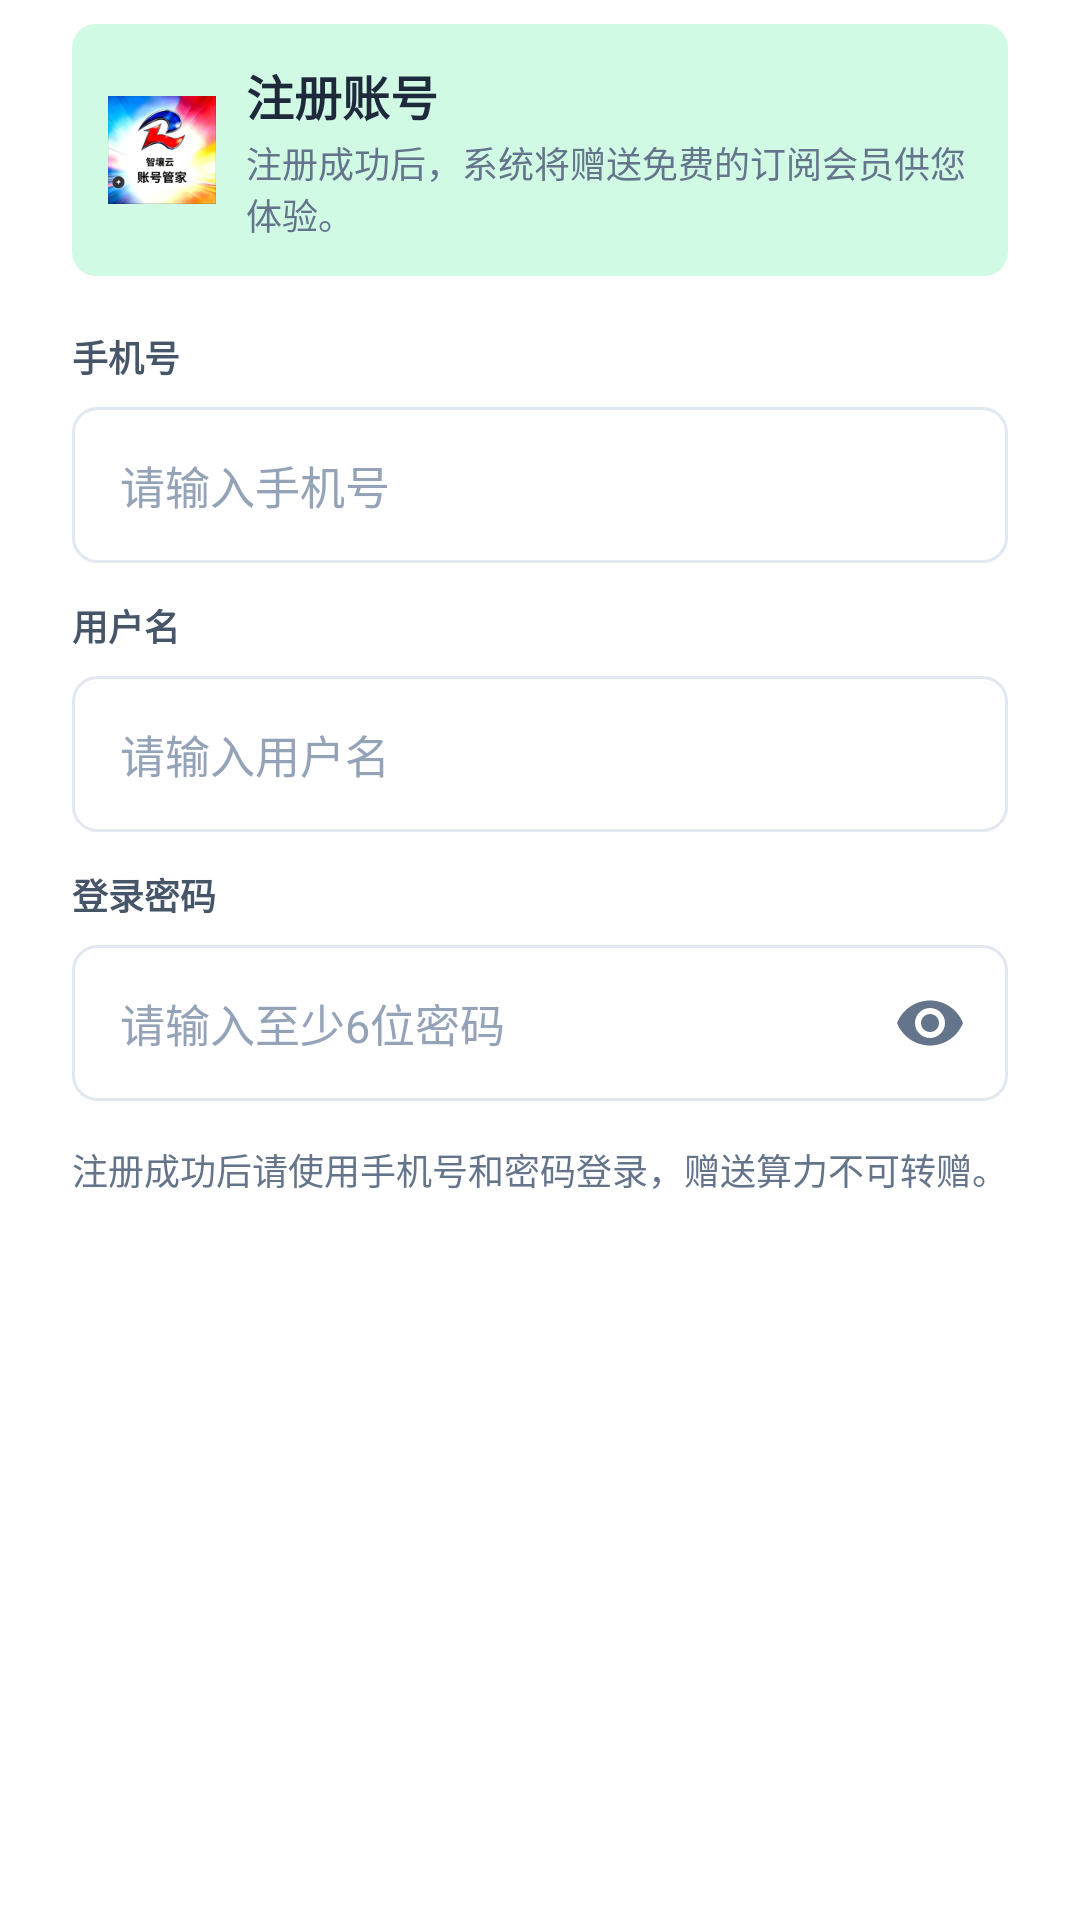

Screen size 1080px x 1920px. Icon name, then its box in pixels as rect(x1, y1, x2, y2):
显示密码: rect(897, 1000, 963, 1046)
